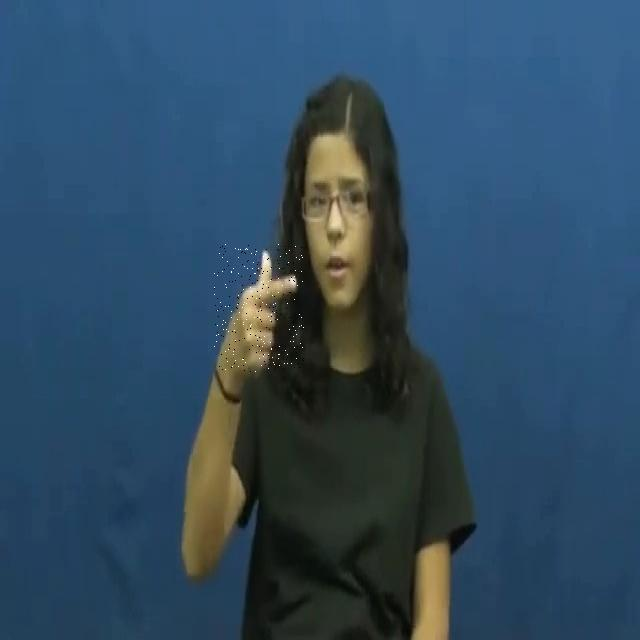yoghurt: (214, 244, 304, 373)
